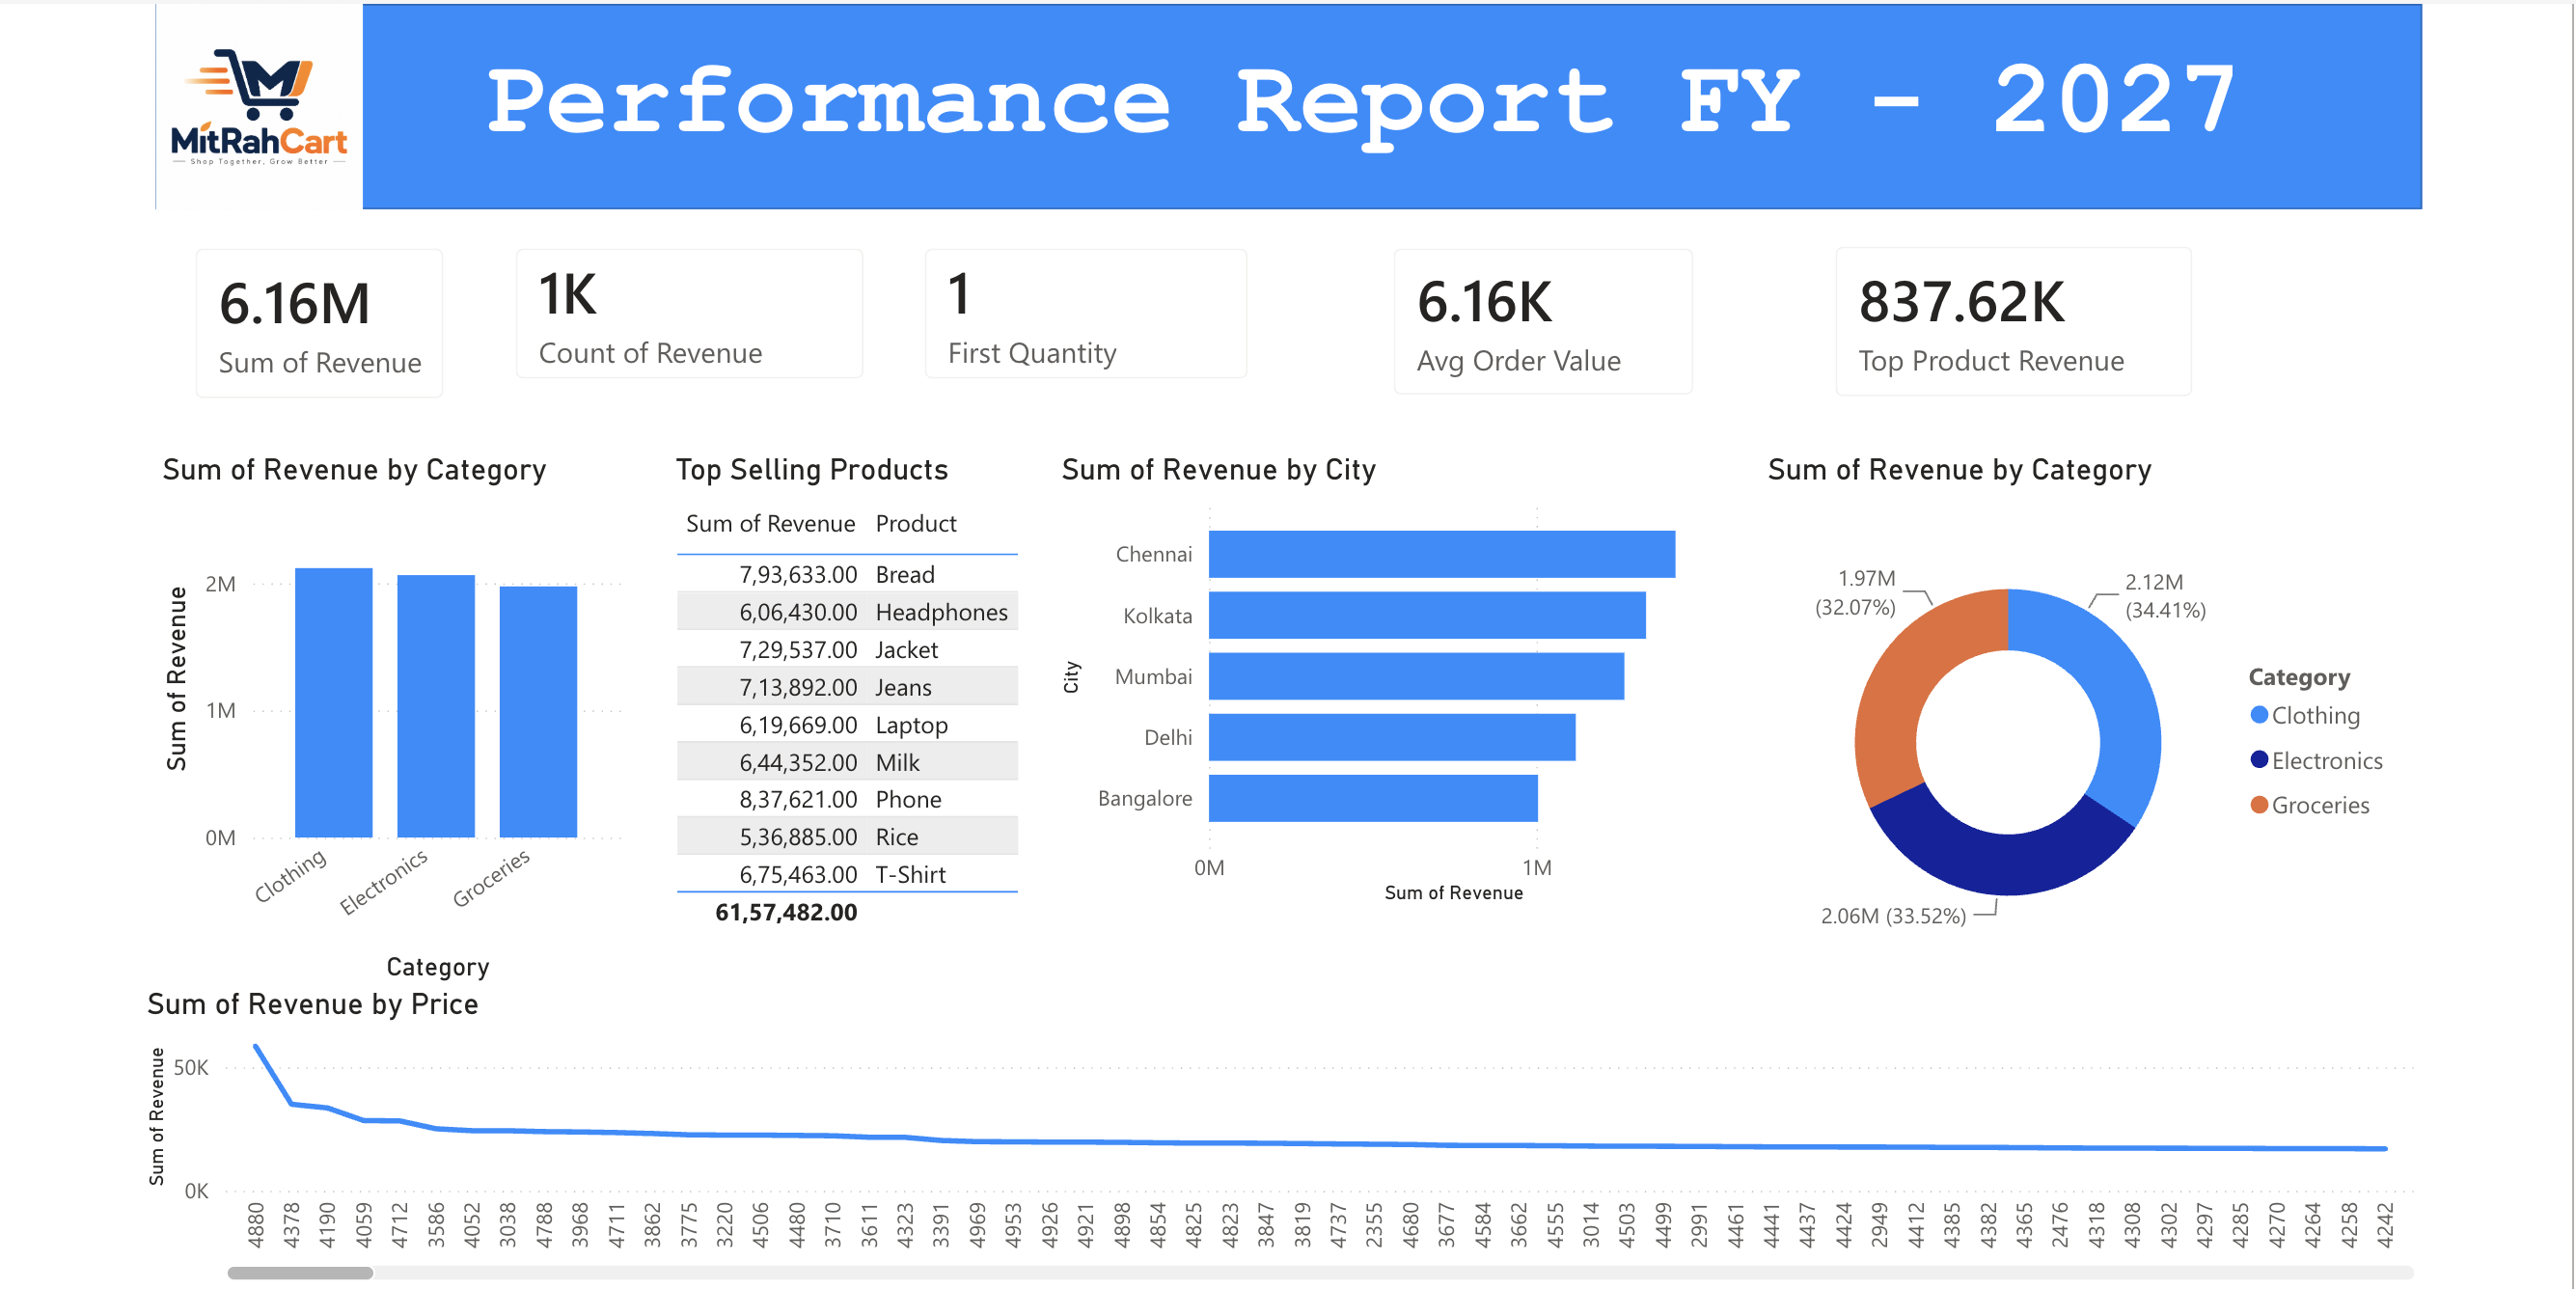

The page's visual inventory and layout, read from the dashboard file:
{"tool":"powerbi","page":{"name":"Page 1","canvas":[1280,720],"ordinal":0},"visuals":[{"type":"shape","box":[10,0,1270,115.2],"z":0},{"type":"image","box":[0,0,135.7,116.2],"z":1000},{"type":"textbox","box":[188.3,17.1,1010.1,81.9],"z":2000},{"type":"lineChart","fields":{"Y":["Sum(MitRah.Revenue)"],"Category":["MitRah.Price"]},"box":[0,552.7,1280.3,167.5],"z":2002},{"type":"columnChart","fields":{"Category":["MitRah.Category"],"Y":["Sum(MitRah.Revenue)"]},"box":[8.6,253.1,267.8,299.6],"z":2003},{"type":"tableEx","title":"Top Selling Products","fields":{"Values":["Sum(MitRah.Revenue)","MitRah.Product"]},"box":[295.9,253.1,216.4,289.8],"z":2004},{"type":"cardVisual","fields":{"Data":["Min(MitRah.Quantity)"]},"box":[424.3,119.8,215.2,107.6],"z":2007},{"type":"clusteredBarChart","fields":{"Category":["MitRah.City"],"Y":["Sum(MitRah.Revenue)"]},"box":[512.4,253.1,376.6,255.6],"z":2008},{"type":"cardVisual","fields":{"Data":["Sum(MitRah.Revenue)"]},"box":[14.7,119.8,173.6,118.6],"z":2009},{"type":"cardVisual","fields":{"Data":["CountNonNull(MitRah.Revenue)"]},"box":[194.4,119.8,229.9,107.6],"z":2010},{"type":"cardVisual","fields":{"Data":["MitRah.Avg Order Value"]},"box":[686,119.8,203,116.2],"z":2011},{"type":"donutChart","fields":{"Category":["MitRah.Category"],"Y":["Sum(MitRah.Revenue)"]},"box":[908.6,253.1,364.4,299.6],"z":2012},{"type":"cardVisual","fields":{"Data":["MitRah.Top Product Revenue"]},"box":[934.2,118.6,234.8,118.6],"z":2013}]}

Visuals, with their boxes on the page's 1280x720 design canvas (x1, y1, x2, y2). These are canvas units, not pixel positions in the 2576x1289 screenshot, which may show the page scaled, cropped or inside an application window:
shape: 10/0/1280/115
image: 0/0/136/116
textbox: 188/17/1198/99
lineChart - Sum(MitRah.Revenue) x MitRah.Price: 0/553/1280/720
columnChart - MitRah.Category x Sum(MitRah.Revenue): 9/253/276/553
"Top Selling Products" tableEx: 296/253/512/543
cardVisual - Min(MitRah.Quantity): 424/120/640/227
clusteredBarChart - MitRah.City x Sum(MitRah.Revenue): 512/253/889/509
cardVisual - Sum(MitRah.Revenue): 15/120/188/238
cardVisual - CountNonNull(MitRah.Revenue): 194/120/424/227
cardVisual - MitRah.Avg Order Value: 686/120/889/236
donutChart - MitRah.Category x Sum(MitRah.Revenue): 909/253/1273/553
cardVisual - MitRah.Top Product Revenue: 934/119/1169/237
